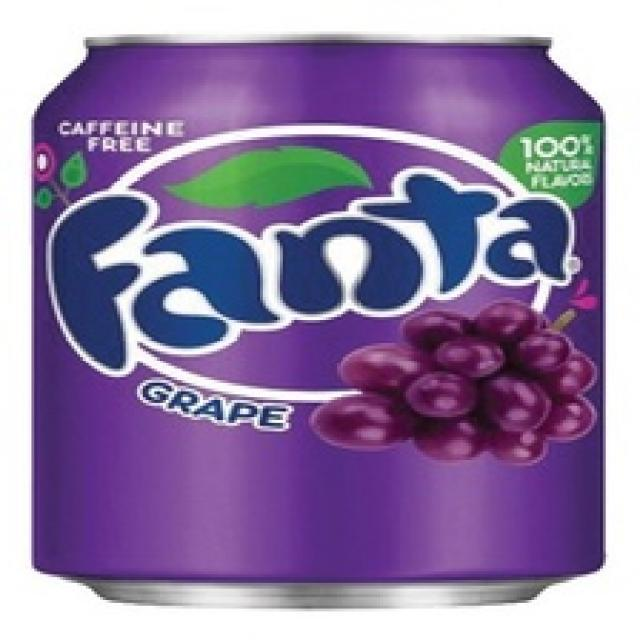recyclable: (31, 32, 608, 608)
